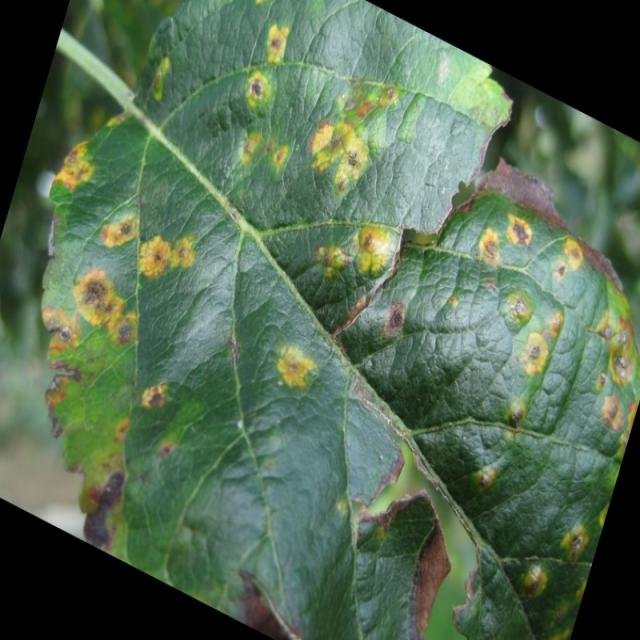Gymnosporangium_Rusts: (37, 0, 592, 637)
